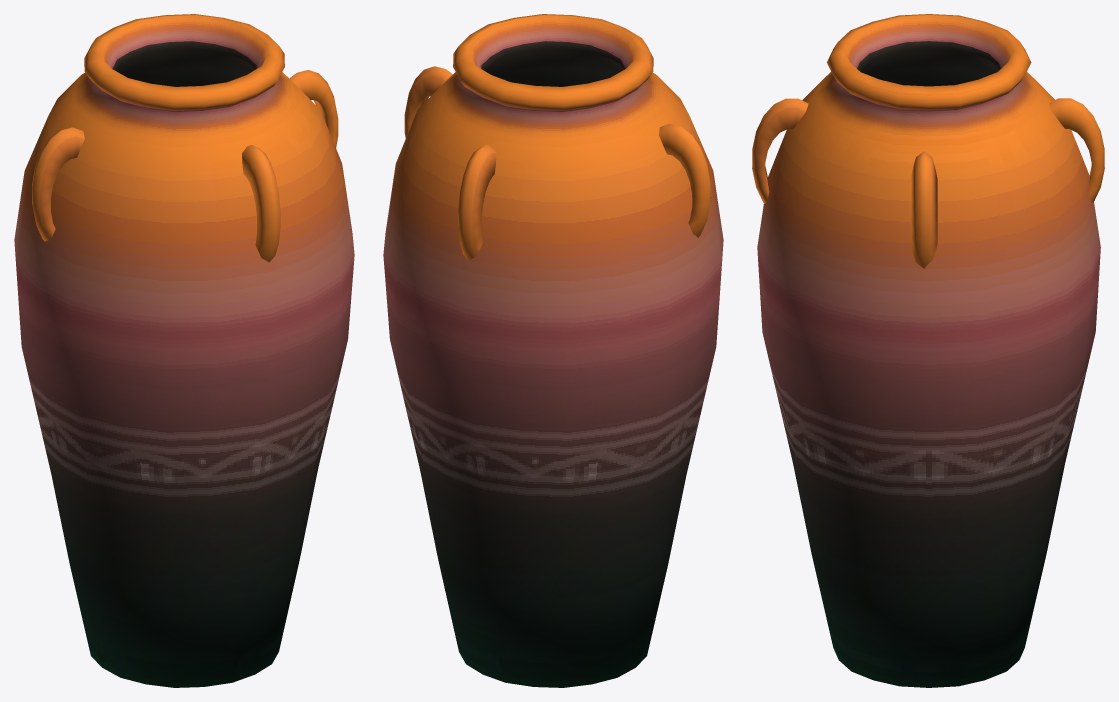
Rendered from Vase_Big.glb.
The picture shows the model from 3 angles, left to right: view 1: azimuth 30°, elevation 25°; view 2: azimuth 150°, elevation 25°; view 3: azimuth 270°, elevation 25°; orthographic projection.
Visible parts, largest first — view 1: Vase_Big; view 2: Vase_Big; view 3: Vase_Big.
Part boxes in pixels (x1,y1,x2,y2): Vase_Big: (14,14,354,687); Vase_Big: (383,14,723,687); Vase_Big: (752,14,1104,687).
Bounding box in the file's own units: 0.5191 × 0.9708 × 0.52.
Materials: 1 (1 with a texture image).
